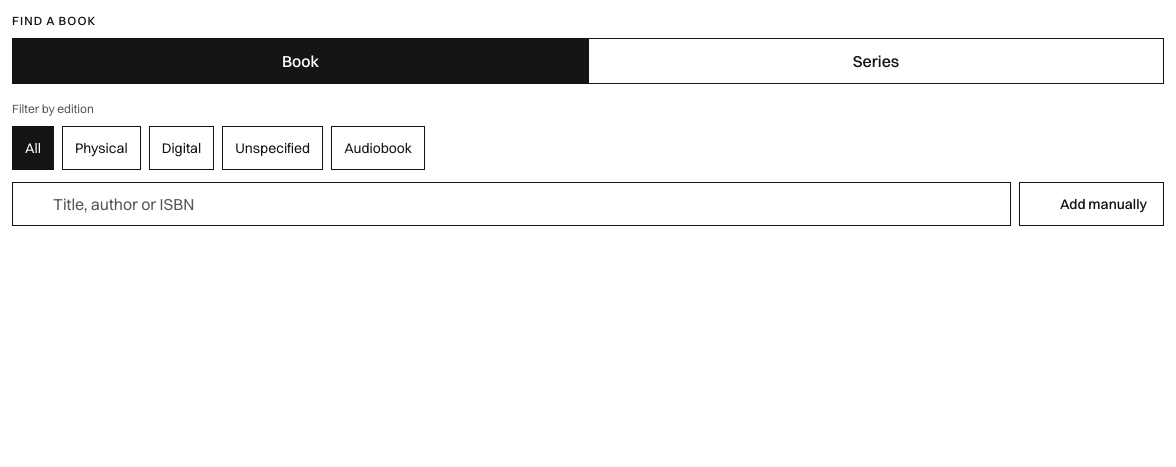
Test: does not replace a queued edition if the final work omits it
Step 1. Type "dune" into the search field named "Search books" → (511, 204), box [12,182,1011,226]
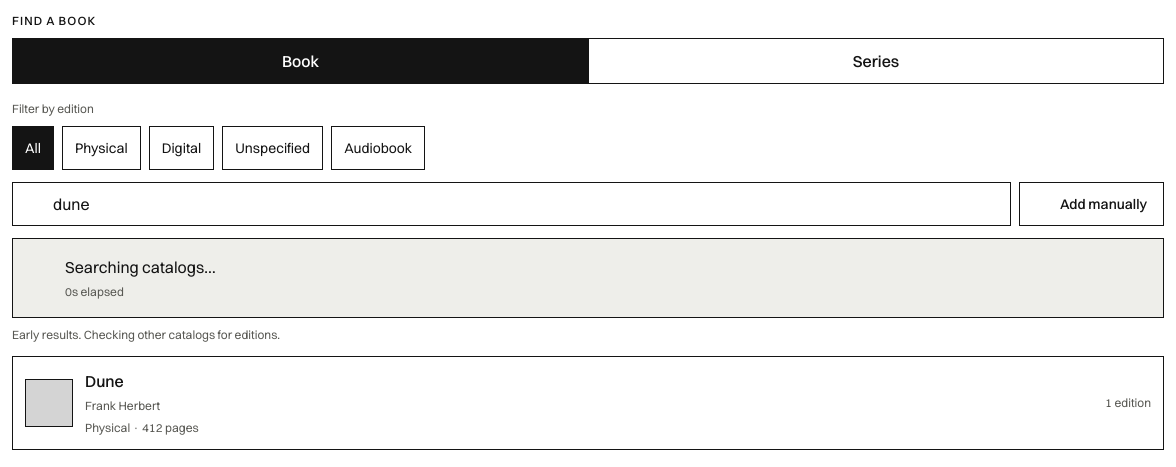
Step 2. Click the button "Dune Frank Herbert Physical · 412 pages 1 edition" → (49, 403), box [13,357,1163,449]
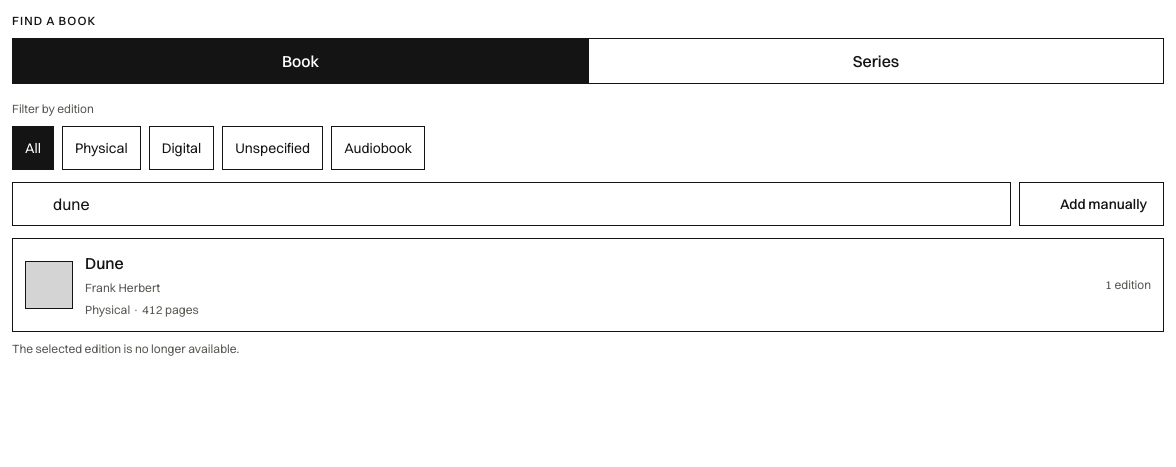
Expected: the text "The selected edition is no longer available." is shown, [12,341,239,356]
